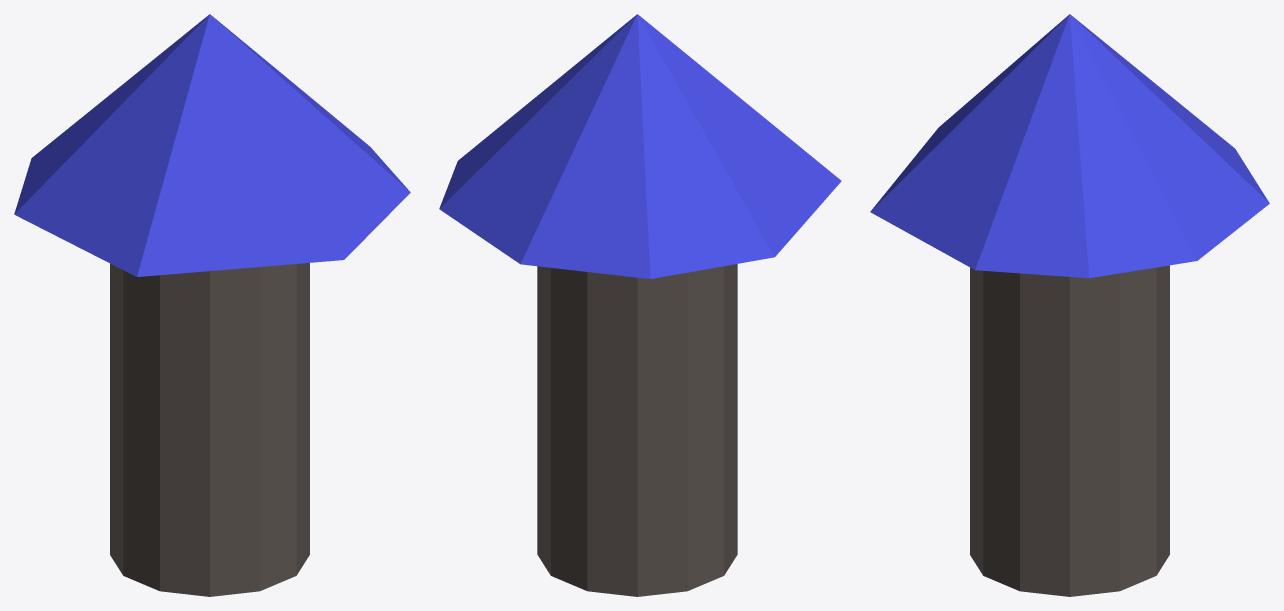
Rendered from WizardTower_Temp.fbx.
3 views of the same model, side by side, from view 1: azimuth 30°, elevation 25°; view 2: azimuth 150°, elevation 25°; view 3: azimuth 270°, elevation 25° (orthographic).
Parts seen in each view (by area): view 1: WizardTower; view 2: WizardTower; view 3: WizardTower.
Part boxes in pixels (box(x1,y1,x2,y2)): WizardTower: box(14, 14, 410, 596); WizardTower: box(439, 14, 841, 596); WizardTower: box(870, 14, 1269, 596).
Size of the model in its own units: 389 by 596 by 400.
